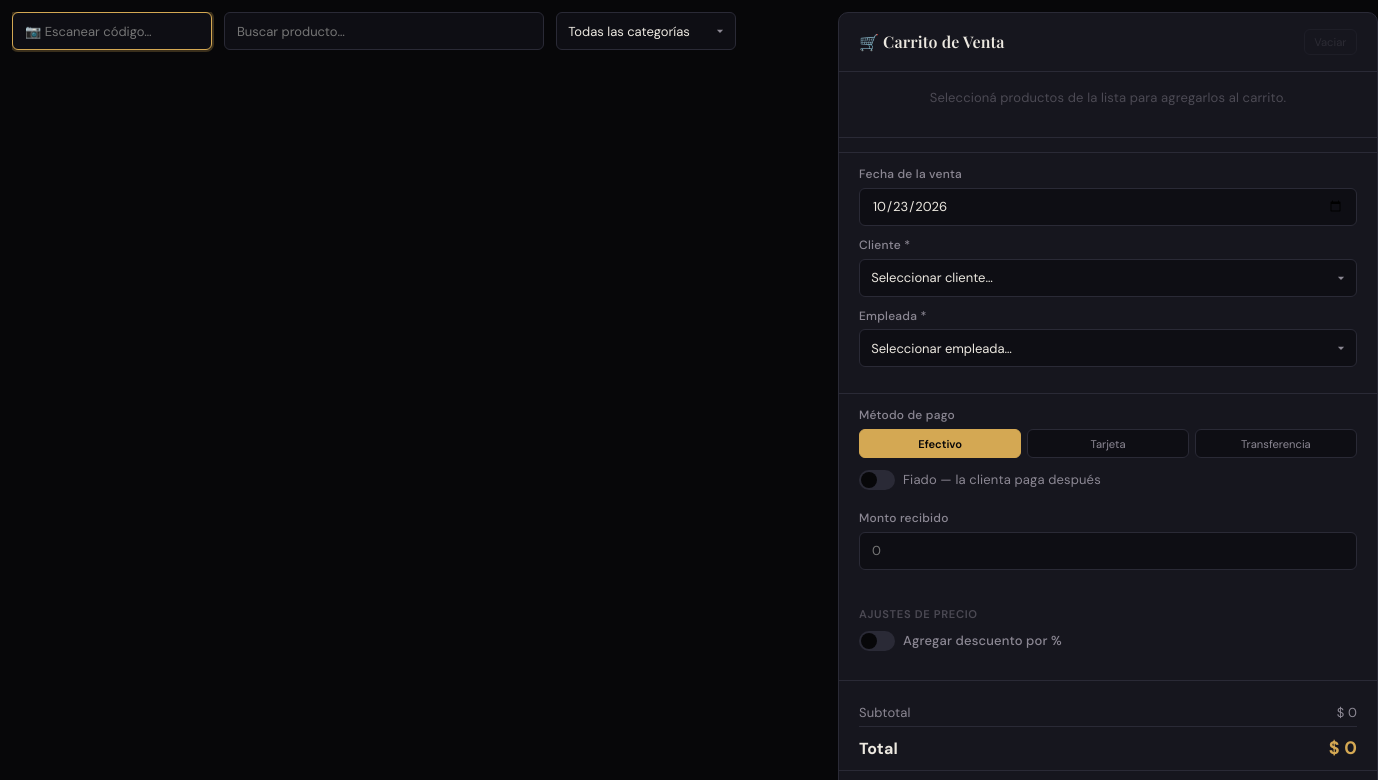
Scenario: VentasPage — escáner de código de barras (PR2) › escanear el mismo código otra vez incrementa la cantidad (+1)
The image size is (1378, 780).
Type "7701234567899" into the field with placeholder "📷 Escanear código…".
click(112, 31); type("7701234567899")  # box left=12, top=12, right=212, bottom=50
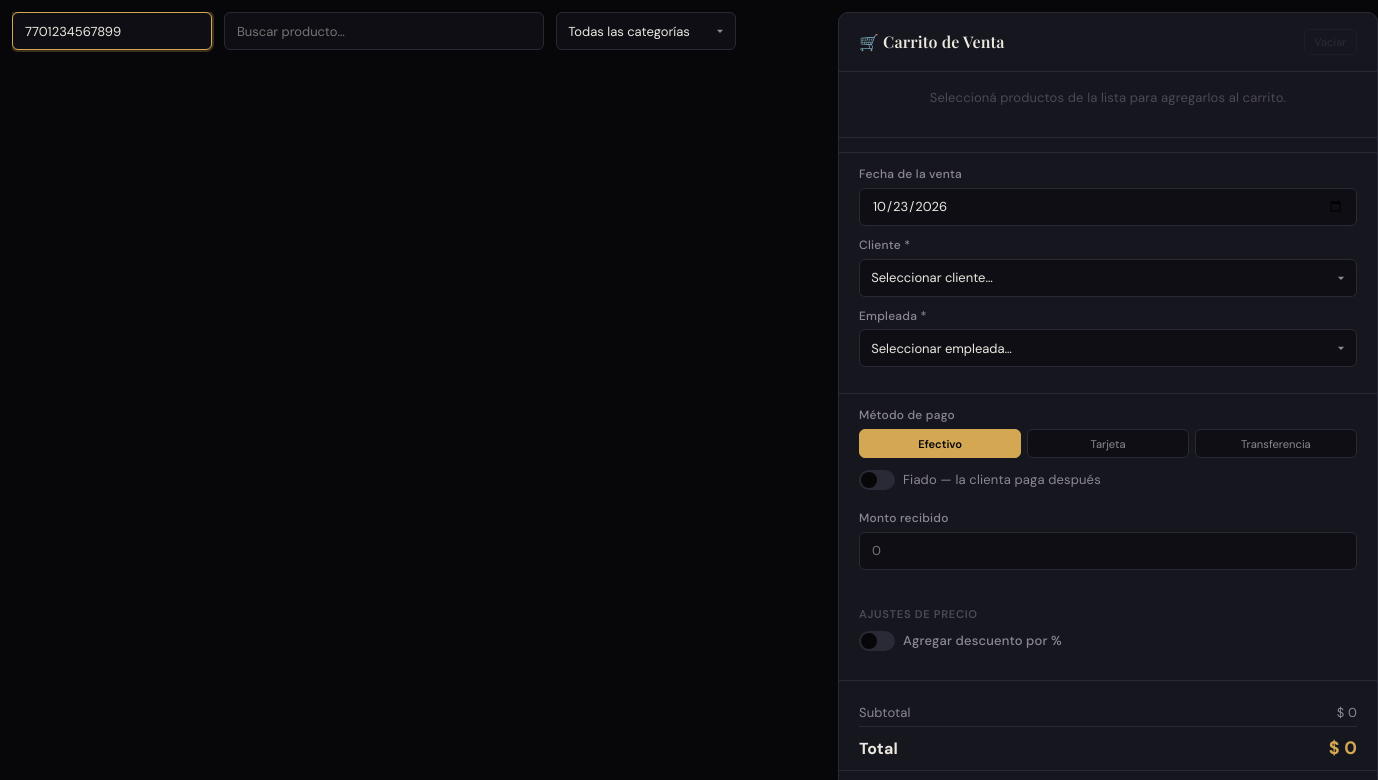
Press Enter in the field with placeholder "📷 Escanear código…", box left=12, top=12, right=212, bottom=50
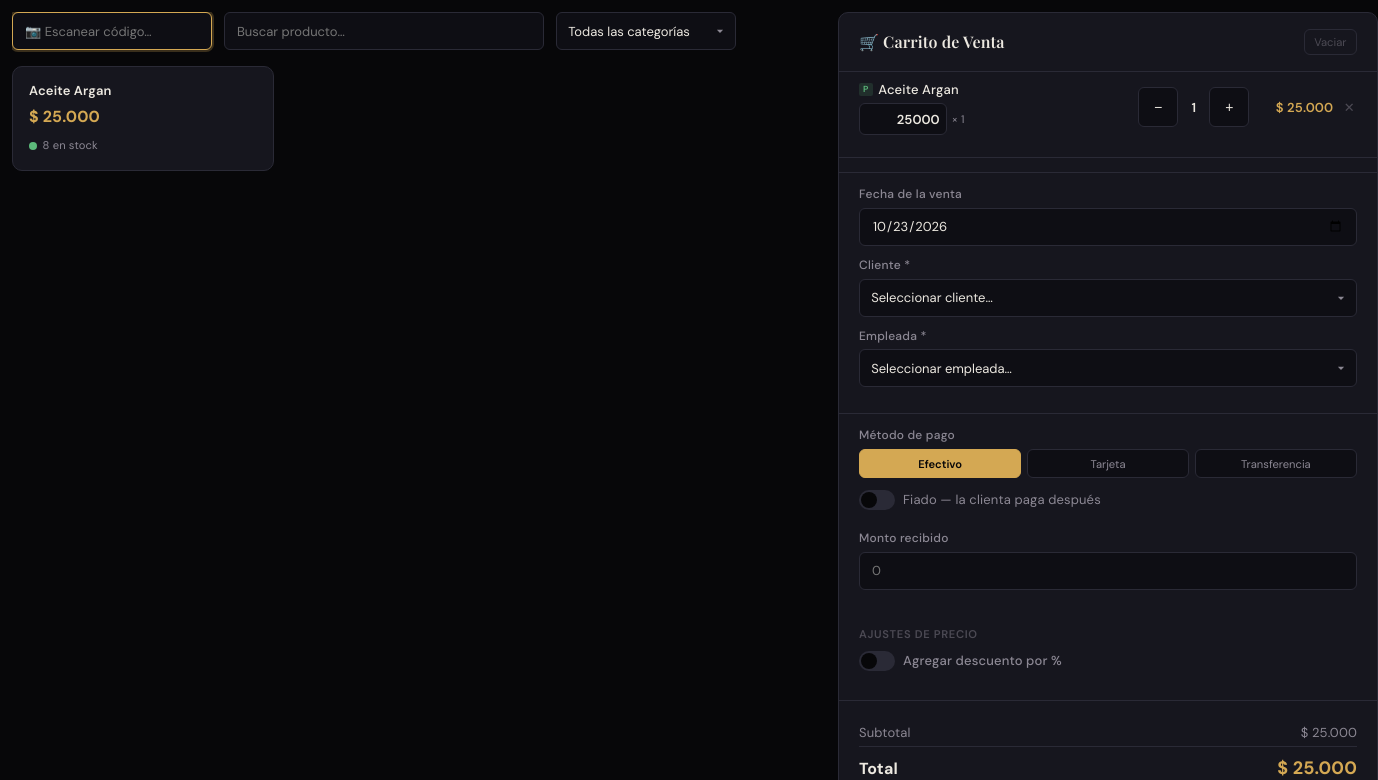
Result: the text "× 1" is shown at left=952, top=111, right=965, bottom=127
Type "7701234567899" into the field with placeholder "📷 Escanear código…".
click(112, 31); type("7701234567899")  # box left=12, top=12, right=212, bottom=50
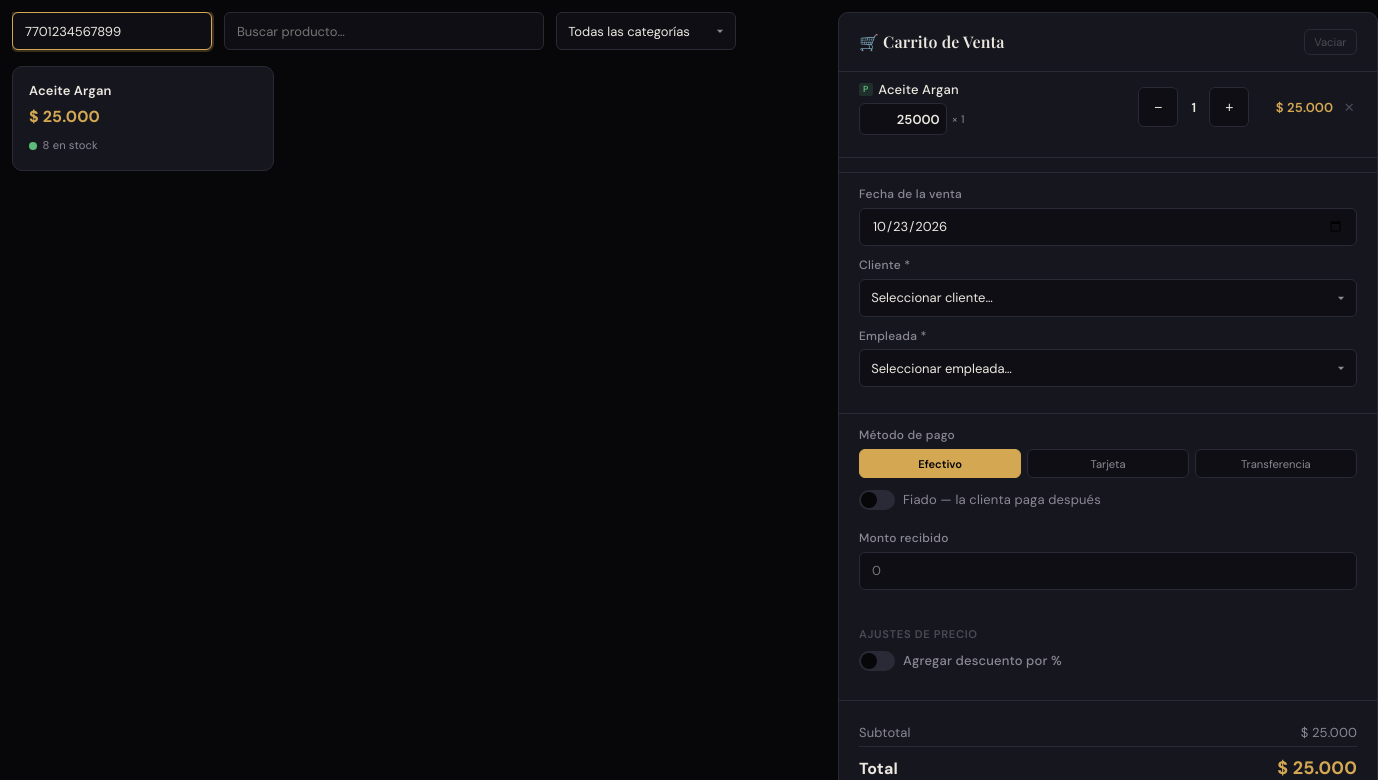
Press Enter in the field with placeholder "📷 Escanear código…", box left=12, top=12, right=212, bottom=50
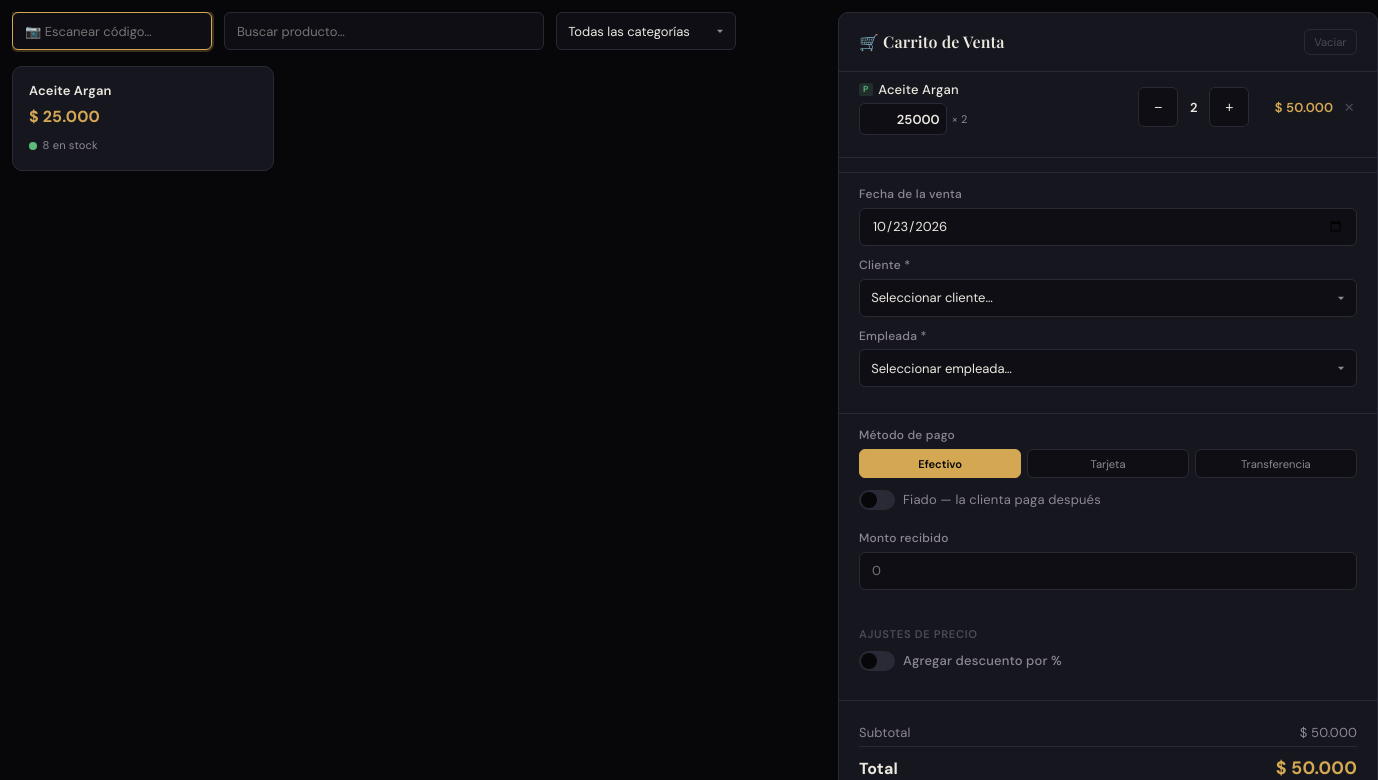
Result: the text "× 2" is shown at left=952, top=111, right=968, bottom=127
